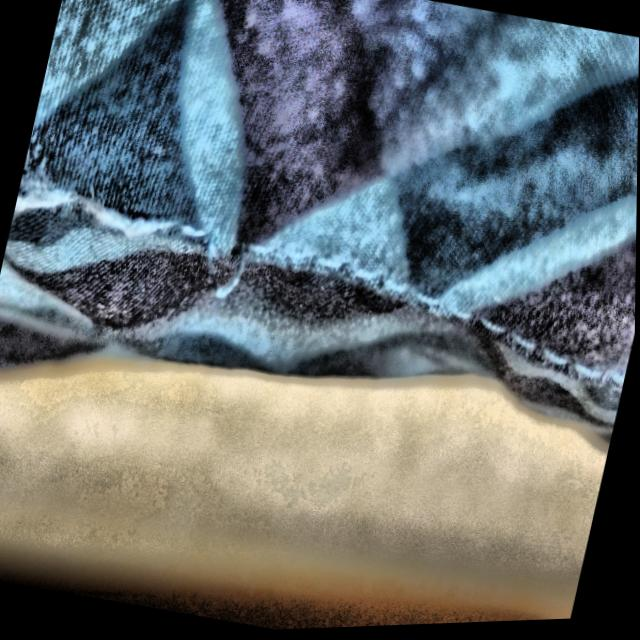Stitch: (171, 189, 278, 341)
